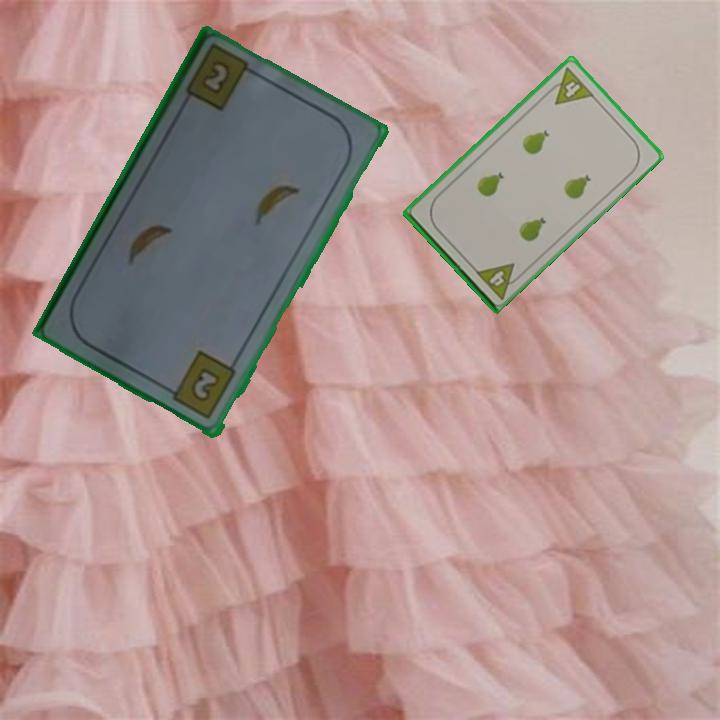2b: (162, 348, 239, 423), (197, 60, 231, 98)
4p: (542, 64, 597, 108), (471, 259, 525, 302)
